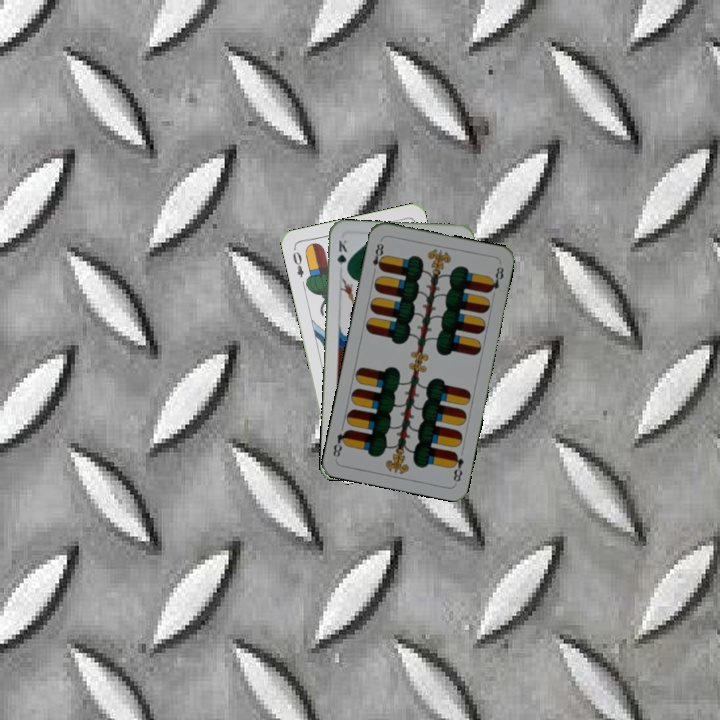E8: (368, 236, 387, 276), (447, 448, 466, 485)
EO: (288, 244, 306, 280)
GK: (333, 236, 350, 275)
